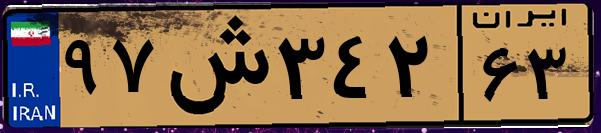2: (385, 28, 445, 110)
3: (270, 28, 330, 110), (525, 38, 570, 115)
4: (330, 28, 385, 110)
6: (475, 38, 525, 113)
7: (110, 28, 158, 98)
9: (57, 26, 110, 100)
ش: (158, 12, 270, 120)
